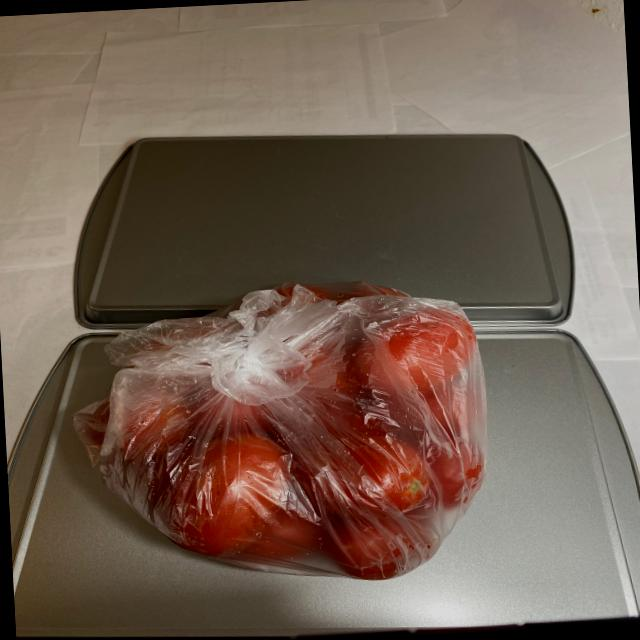tomato: (80, 279, 494, 592)
